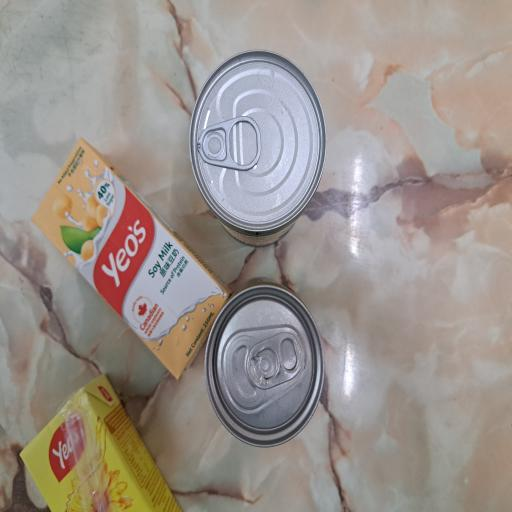can: (196, 254, 348, 436), (49, 269, 174, 433)
drink carton: (100, 44, 281, 306), (0, 22, 103, 245)
pop tab: (92, 328, 140, 409), (256, 263, 298, 348)
